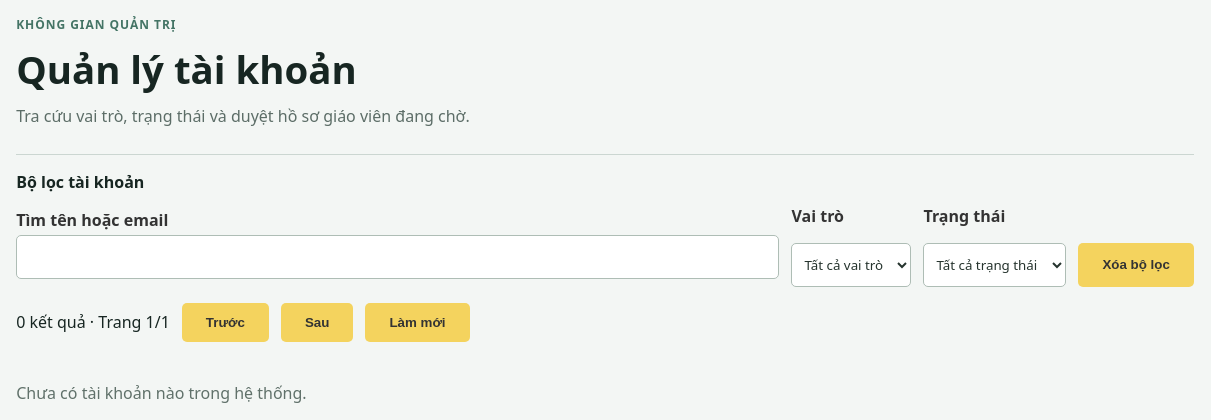
Scenario: rỗng phân biệt có filter và chưa có dữ liệu
Select "Giáo viên" in the dropdown labelled "Vai trò": (851, 265) [791,243,911,287]
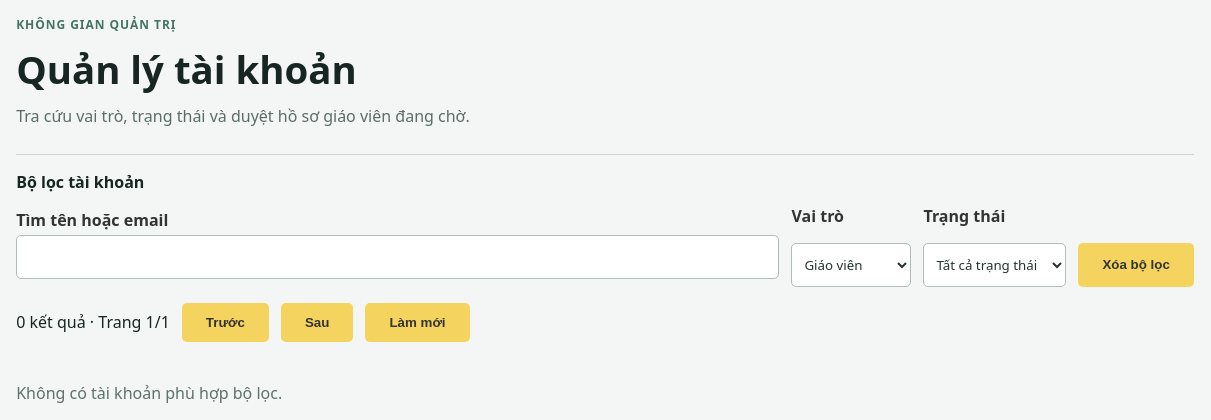
Expected: the text "Không có tài khoản phù hợp" is shown, [16,382,282,404]
